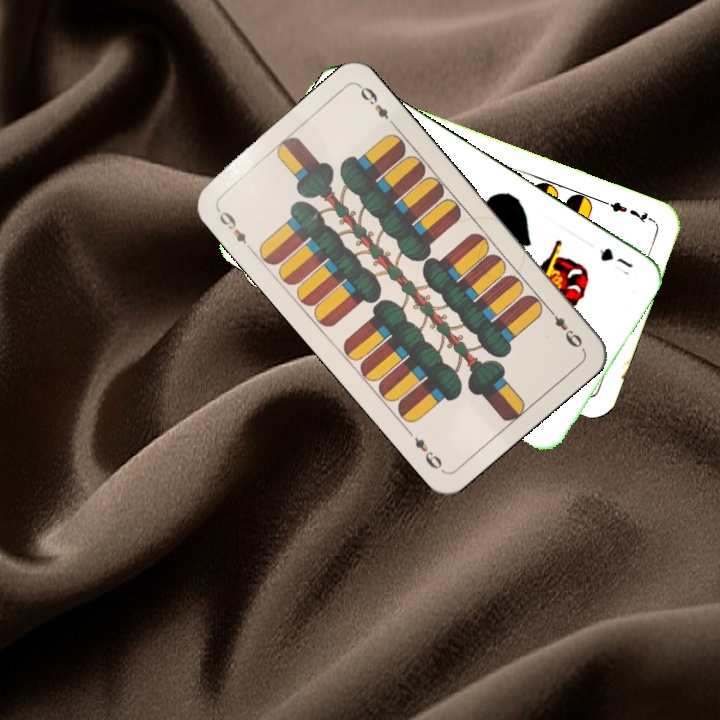E7: (600, 197, 657, 226)
E9: (212, 204, 255, 254), (543, 303, 585, 351)
GU: (595, 243, 636, 271)
